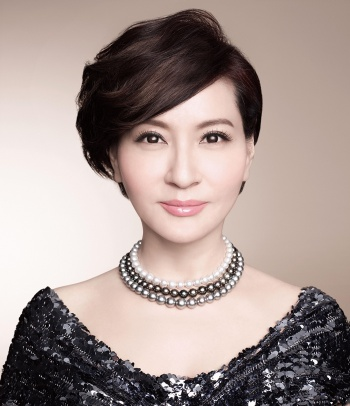female: (72, 8, 268, 257)
